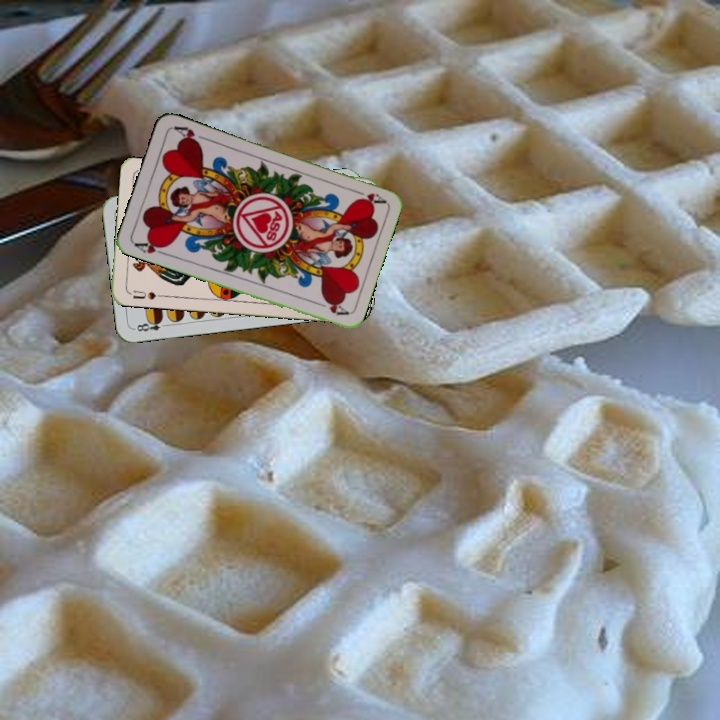E8: (130, 315, 171, 334)
HA: (130, 236, 170, 258), (348, 185, 387, 206)
SU: (125, 286, 166, 302)
